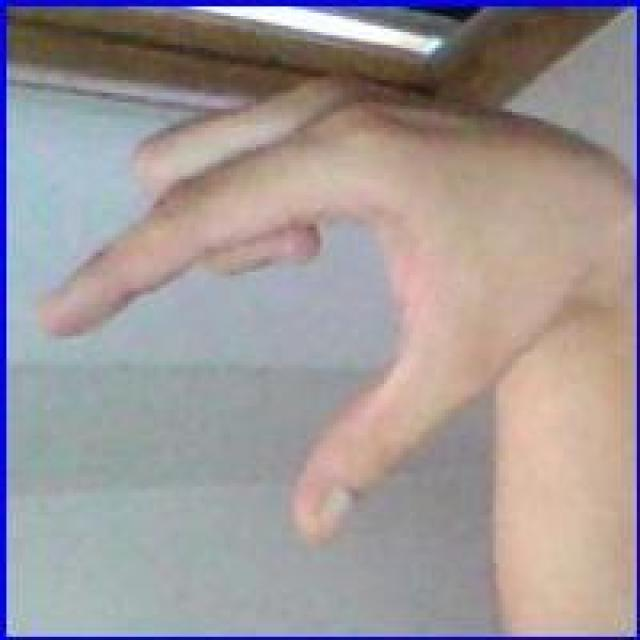Q: (29, 74, 605, 556)
